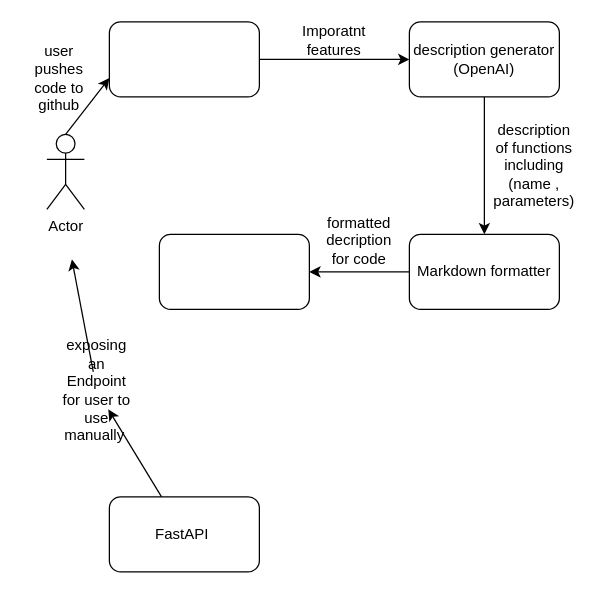
Some shapes in this 596 by 594 pixel diagram are drawn without their labels. Each missing label, with the centre of its shape:
"Code parser" goes at (x=183, y=59).
"github repo" goes at (x=233, y=271).
